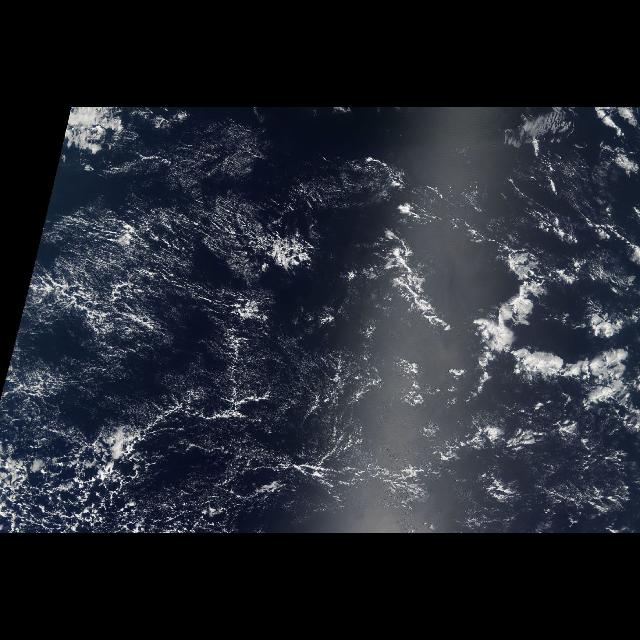Flower: (441, 242, 639, 440)
Gravel: (0, 194, 312, 532)
Sugar: (44, 194, 363, 522)
